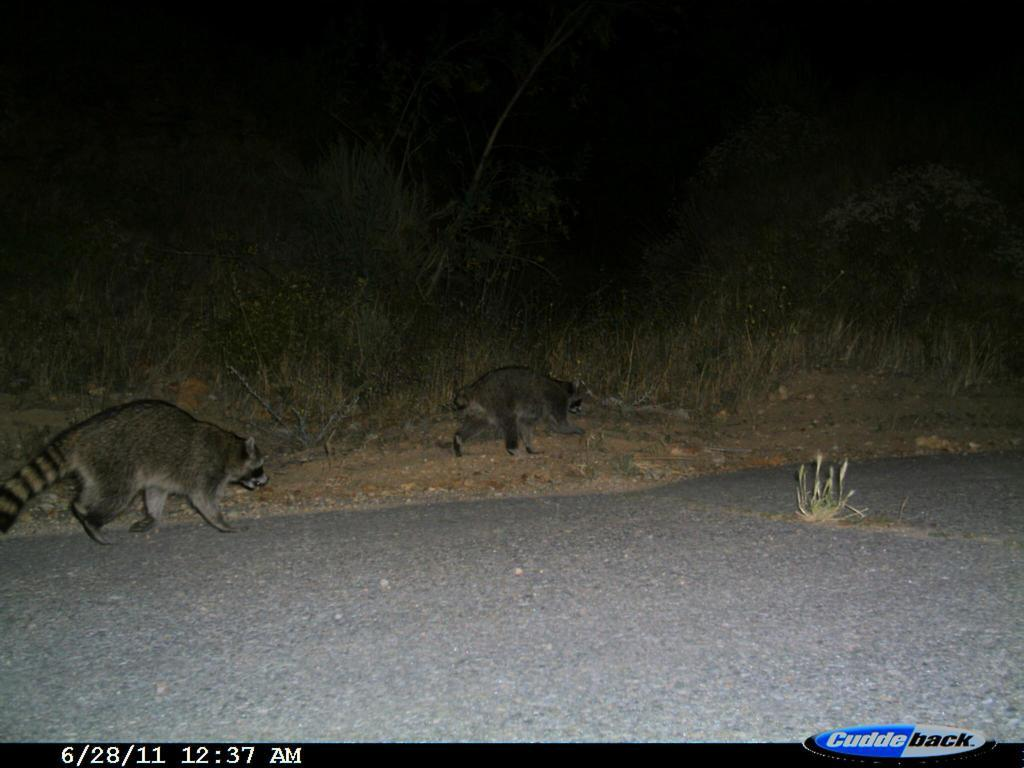raccoon: (8, 391, 278, 546), (442, 355, 607, 464)
